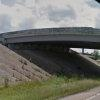Bridge: (5, 11, 98, 60)
